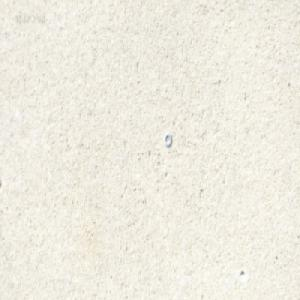Washer: (164, 132, 172, 147)
